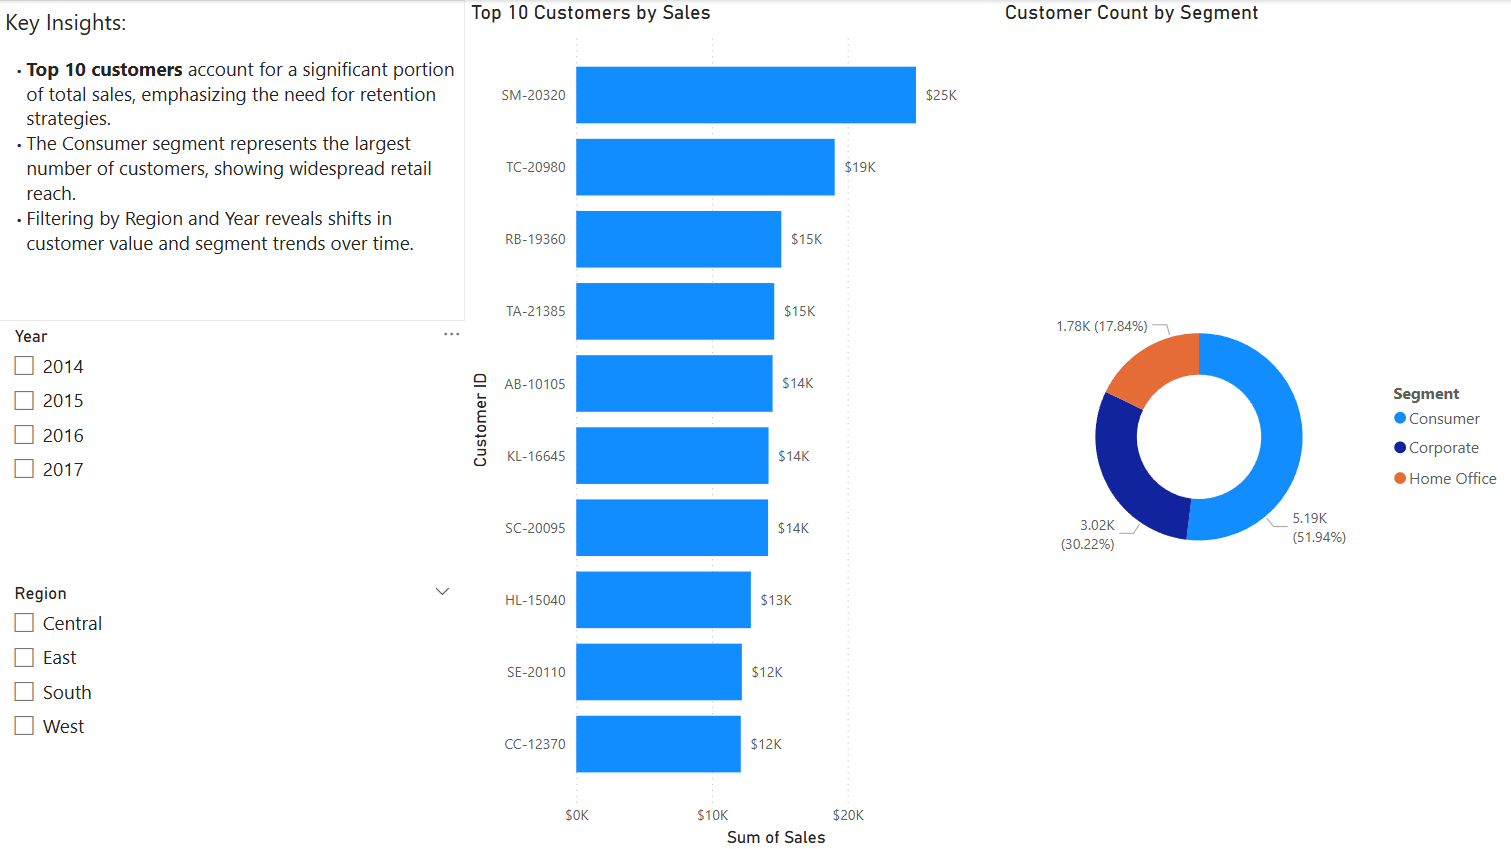

The page's visual inventory and layout, read from the dashboard file:
{"tool":"powerbi","page":{"name":"Top Customers & Customer Segments","canvas":[1280,720],"ordinal":2},"visuals":[{"type":"clusteredBarChart","title":"Top 10 Customers by Sales","fields":{"Category":["Sample_ Superstore.Customer ID"],"Y":["Sum(Sample_ Superstore.Sales)"]},"box":[393.8,0,450.9,720],"z":0},{"type":"donutChart","title":"Customer Count by Segment","fields":{"Category":["Sample_ Superstore.Segment"],"Y":["CountNonNull(Sample_ Superstore.Customer ID)"]},"box":[844.7,0,435.3,720],"z":1},{"type":"slicer","fields":{"Values":["Sample_ Superstore.Region"]},"box":[0,488.3,393.8,231.7],"z":2},{"type":"slicer","fields":{"Values":["Sample_ Superstore.Order Date.Variation.Date Hierarchy.Year"]},"box":[0,271.2,393.8,217.1],"z":3},{"type":"textbox","box":[0,0,393.8,271.2],"z":4}]}

Visuals, with their boxes in screenshot pixels (x1, y1, x2, y2), scaled from the page's 1280x720 canvas onto the 1511x849 screenshot:
"Top 10 Customers by Sales" clusteredBarChart: {"left": 465, "top": 0, "right": 997, "bottom": 848}
"Customer Count by Segment" donutChart: {"left": 997, "top": 0, "right": 1510, "bottom": 848}
slicer - Sample_ Superstore.Region: {"left": 0, "top": 576, "right": 465, "bottom": 848}
slicer - Sample_ Superstore.Order Date.Variation.Date Hierarchy.Year: {"left": 0, "top": 320, "right": 465, "bottom": 576}
textbox: {"left": 0, "top": 0, "right": 465, "bottom": 320}
